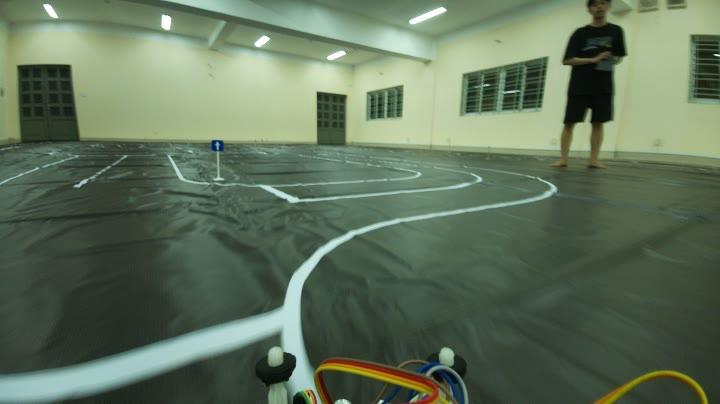onewayroad: (207, 136, 228, 158)
